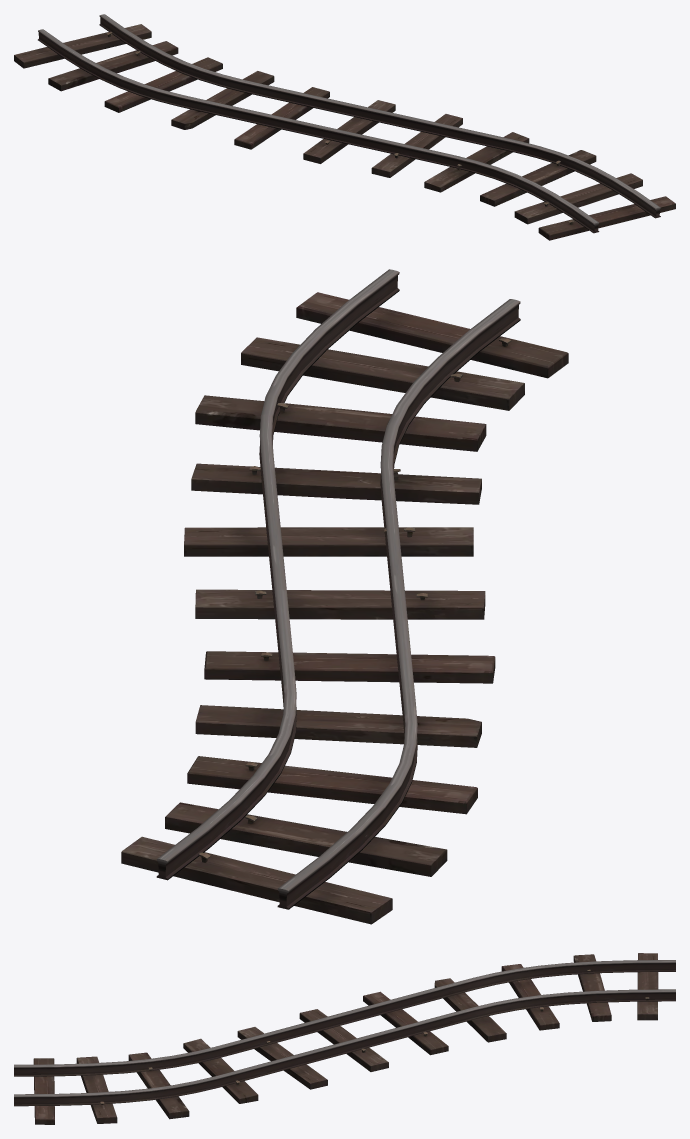
The picture shows the model from 3 angles, top to bottom: view 1: azimuth 30°, elevation 25°; view 2: azimuth 150°, elevation 25°; view 3: azimuth 270°, elevation 25°; orthographic projection. The views are drawn at different scales.
Visible parts, largest first — view 1: body0_model0_lod0_mesh0; view 2: body0_model0_lod0_mesh0; view 3: body0_model0_lod0_mesh0.
Boxes of the visible parts, box(x1,y1,x2,y2) form: body0_model0_lod0_mesh0: box(14, 14, 675, 240); body0_model0_lod0_mesh0: box(121, 269, 568, 924); body0_model0_lod0_mesh0: box(14, 953, 675, 1124).
Bounding box in the file's own units: 152 × 6.72 × 256.
Materials: 1 (1 with a texture image).
